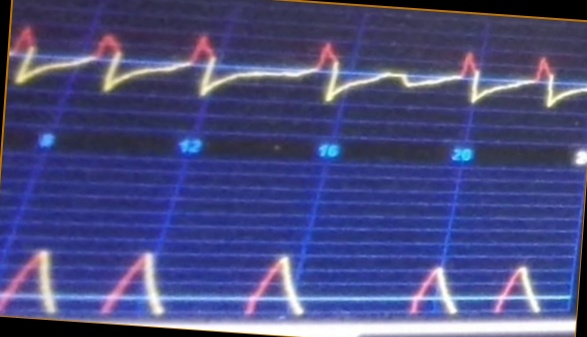Ineffective_effort Flow: (10, 21, 585, 128)
Ineffective_effort Volume: (2, 235, 542, 319)
